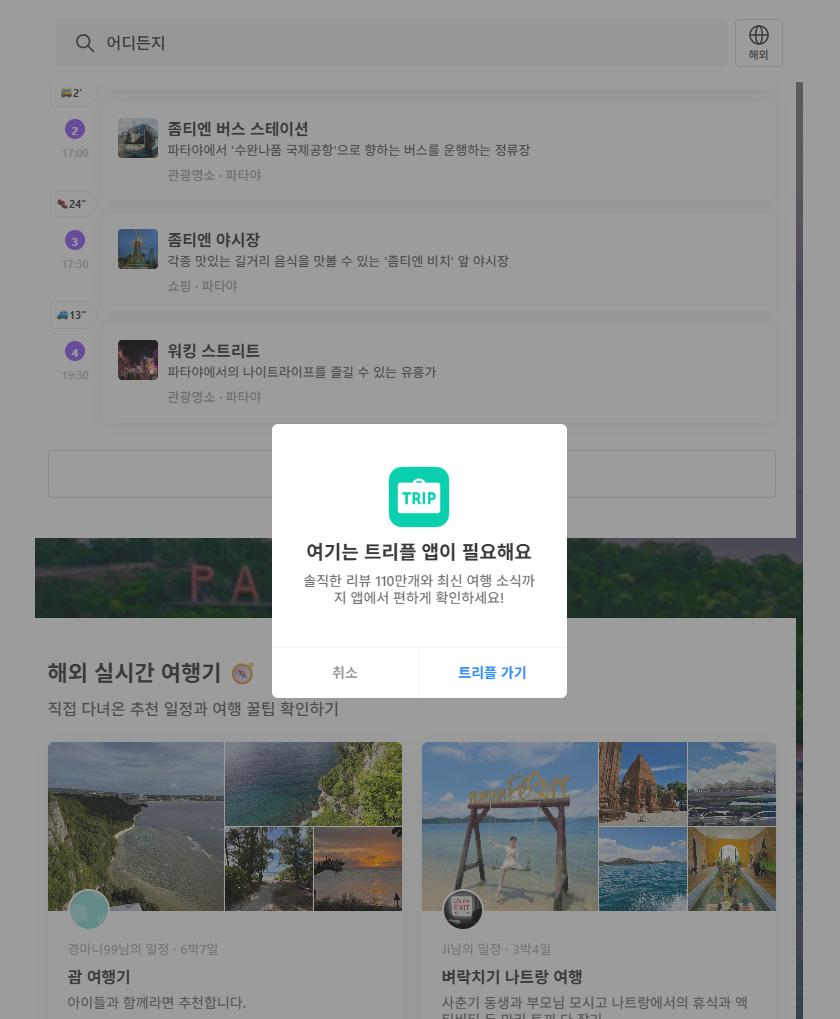button: (277, 646, 418, 695), (426, 647, 562, 695), (735, 19, 781, 68)
input_field: (52, 15, 723, 72)
popup: (269, 421, 564, 697), (38, 535, 798, 620)
